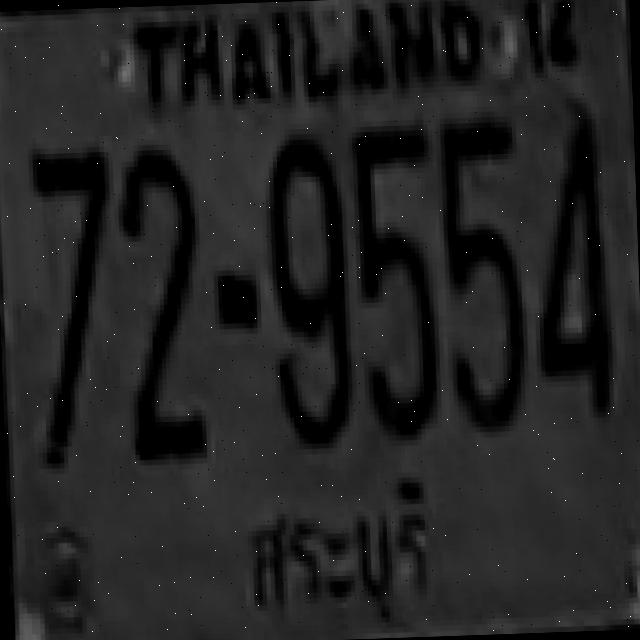0: (355, 222, 438, 433), (266, 130, 344, 330)
2: (116, 143, 200, 391), (120, 215, 204, 458)
4: (528, 108, 610, 414)
7: (28, 146, 110, 335)
SaraBuri: (239, 466, 446, 632)
